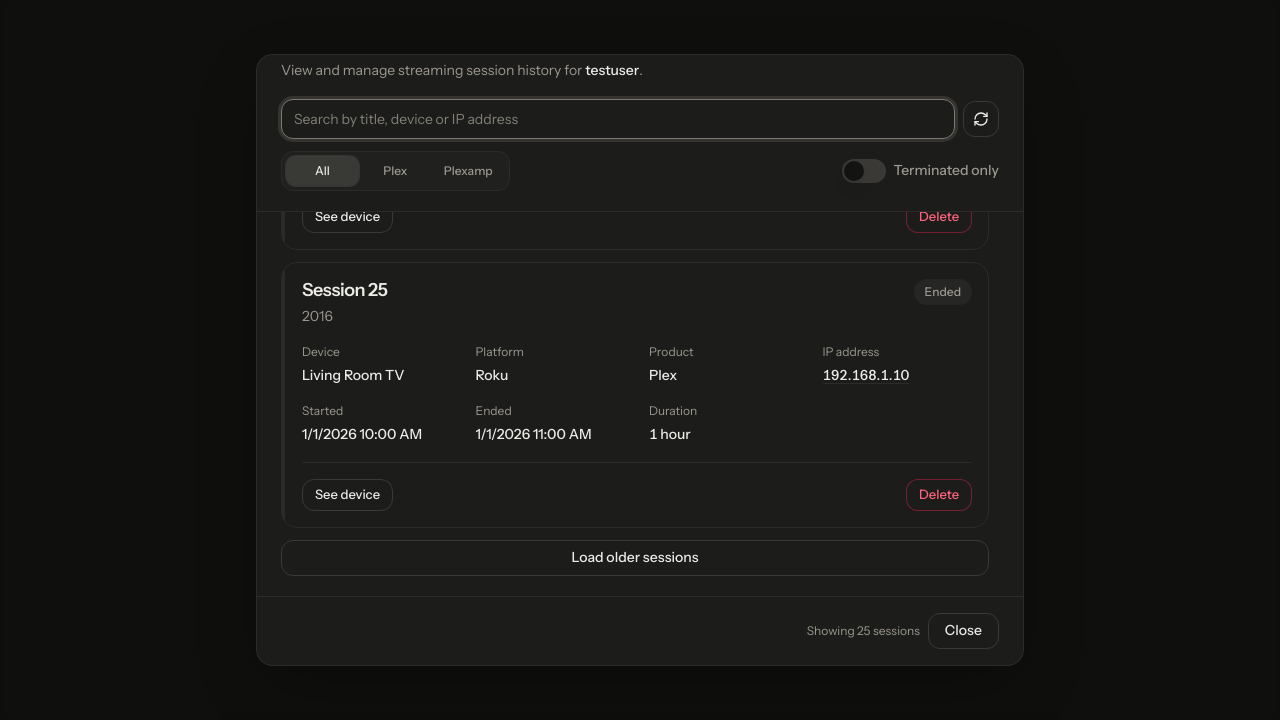
Test: UserHistoryModal paging › appends the next page from the loaded offset
The image size is (1280, 720).
(page scrolled)
Click the button "Load older sessions". click: [635, 558]
box: [281, 540, 989, 576]
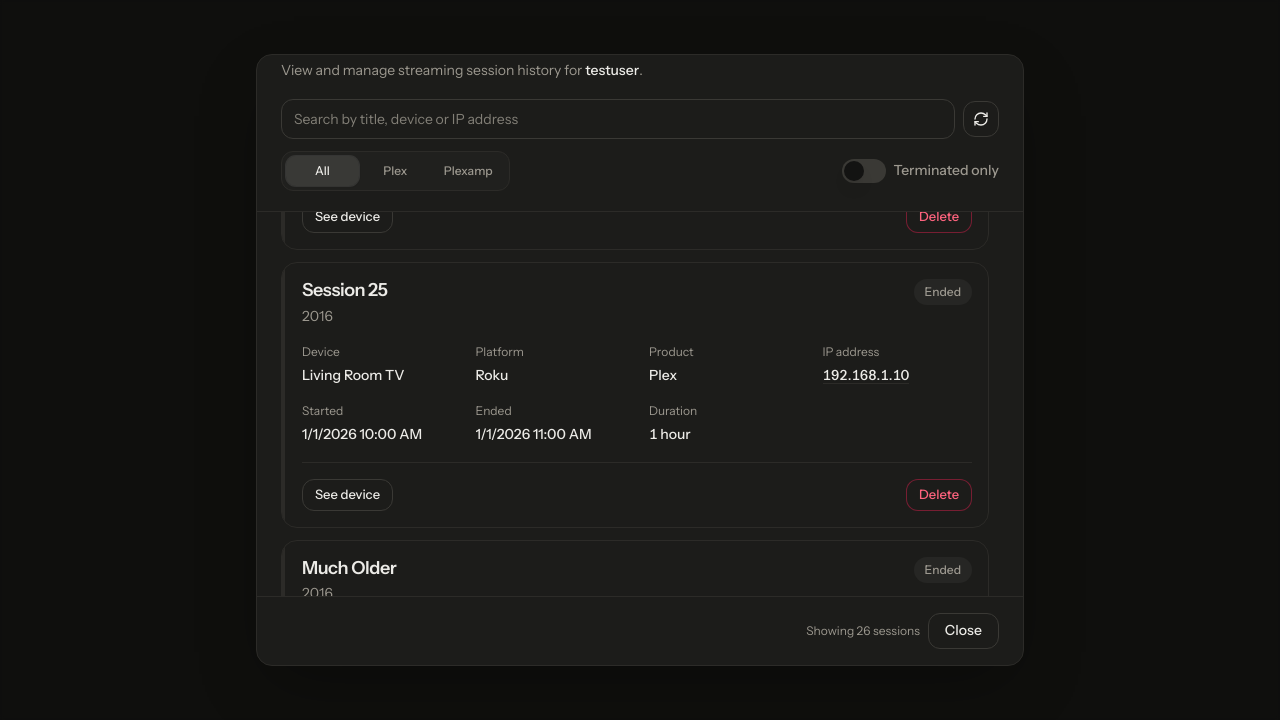
Now the heading "Much Older" is shown, box [302, 557, 396, 579]
Now the button "Load older sessions" is gone
